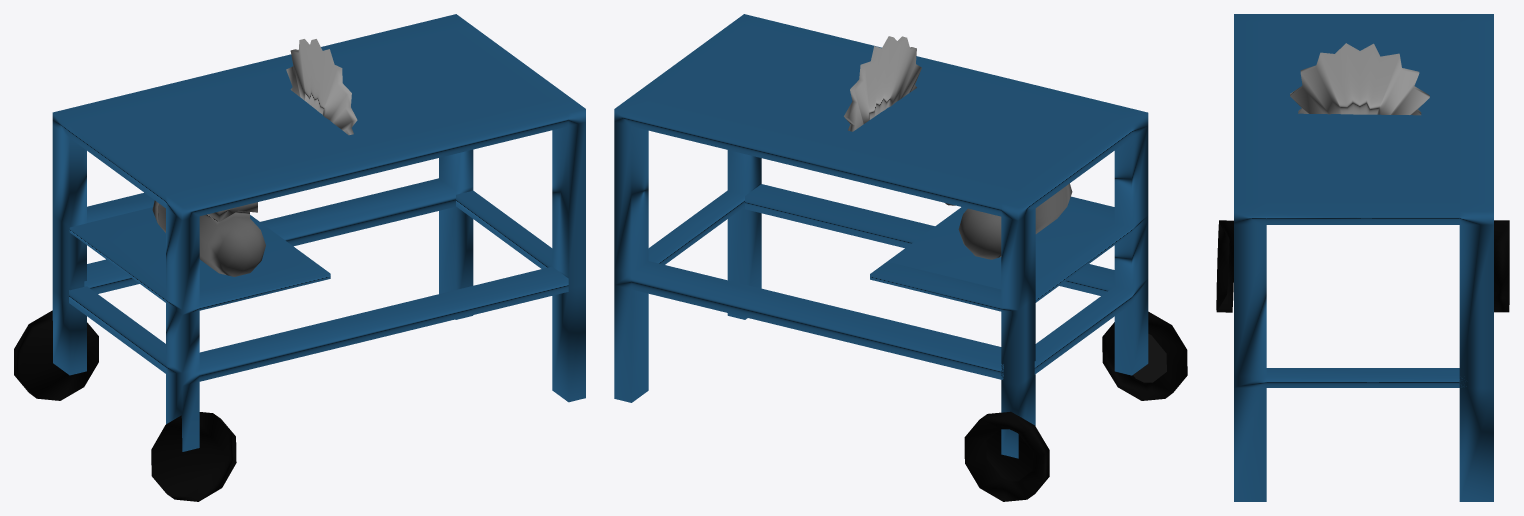
The model's file is odun kesme makinesi.fbx.
3 renders of one model, left to right at view 1: azimuth 30°, elevation 25°; view 2: azimuth 150°, elevation 25°; view 3: azimuth 270°, elevation 25°, orthographic.
Parts seen in each view (by area): view 1: Cube.005; view 2: Cube.005; view 3: Cube.005.
Part boxes in pixels (x1,y1,x2,y2): Cube.005: (14, 14, 585, 501); Cube.005: (614, 14, 1187, 501); Cube.005: (1216, 14, 1509, 501).
Bounding box in the file's own units: 488 × 385 × 284.
